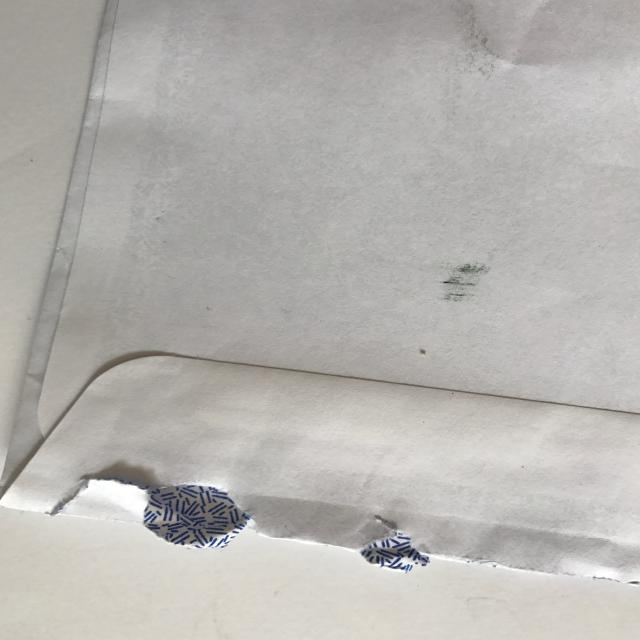paper: (0, 0, 640, 610)
